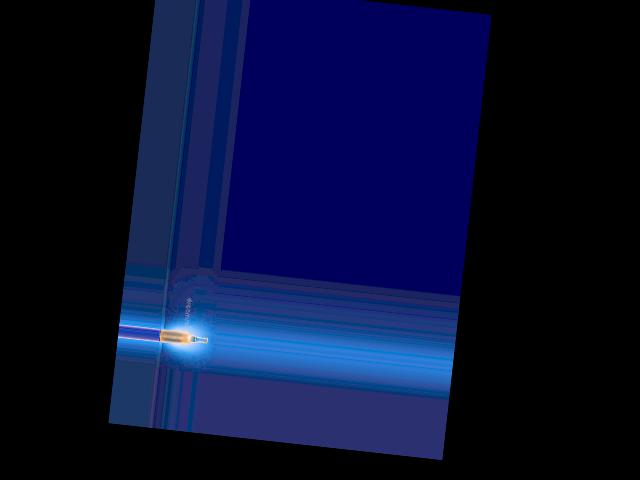beer: (159, 329, 207, 348)
